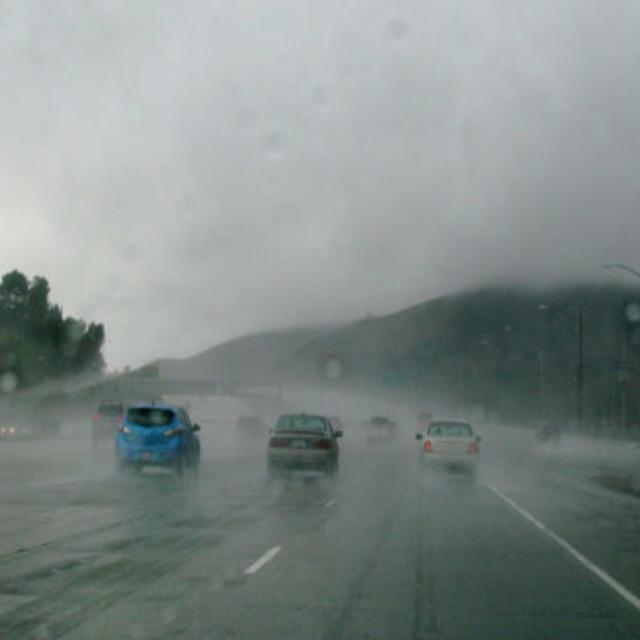car: (114, 400, 200, 470), (266, 412, 342, 476), (422, 419, 481, 478), (87, 400, 127, 444), (358, 414, 400, 447)
